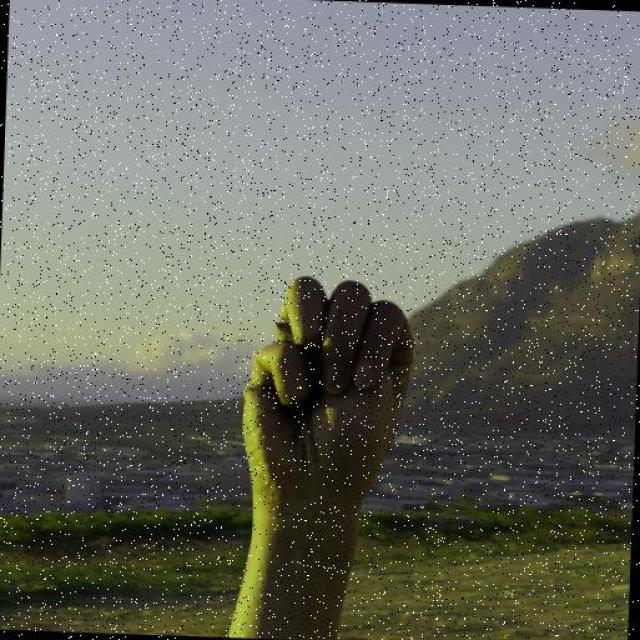M: (236, 270, 424, 516)
